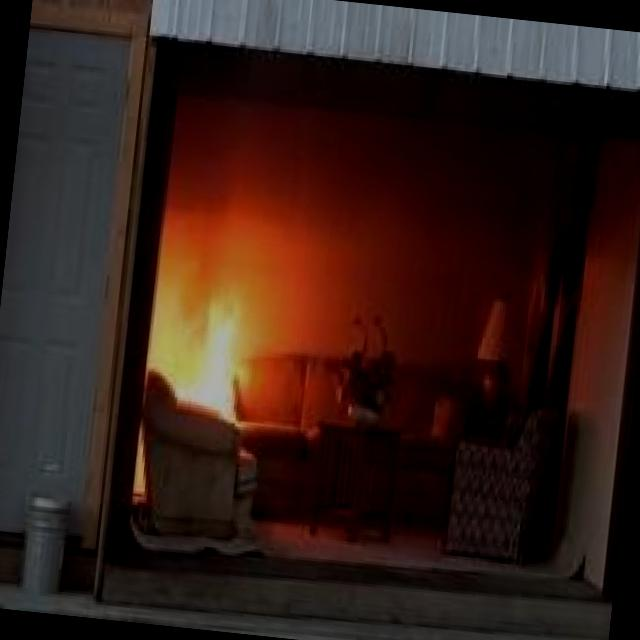fire: (152, 231, 271, 369)
